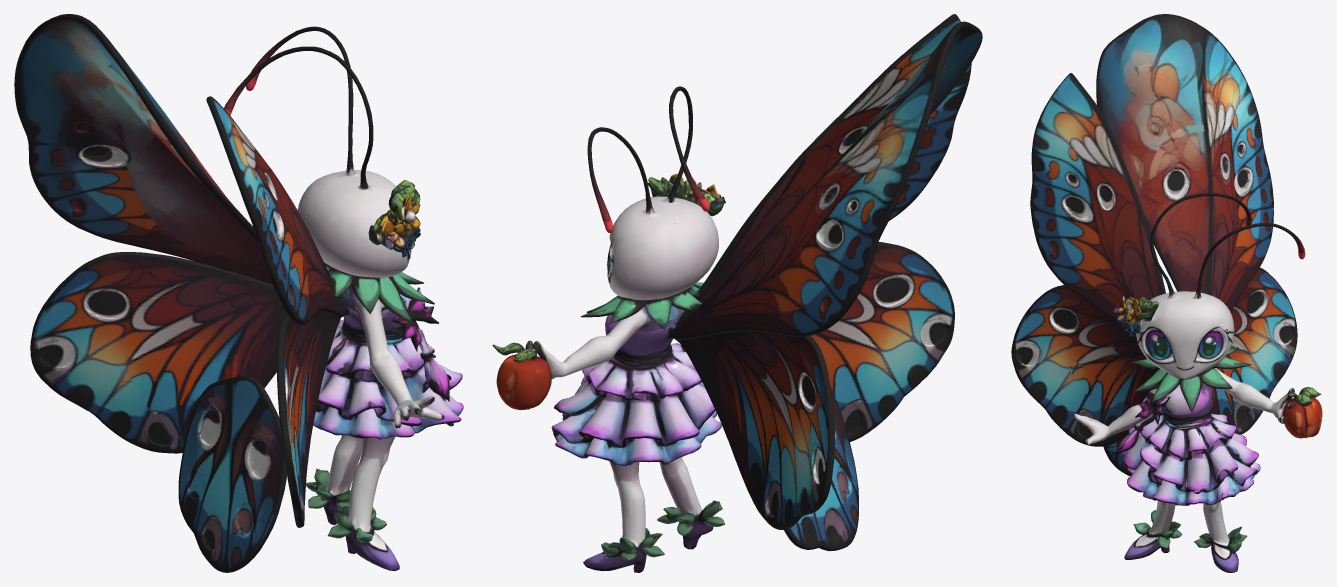
File: pixella.glb
3 renders of one model, left to right at view 1: azimuth 30°, elevation 25°; view 2: azimuth 150°, elevation 25°; view 3: azimuth 270°, elevation 25°, orthographic. The views are drawn at different scales.
Parts seen in each view (by area): view 1: tripo_node_e547bfa9-b305-4b18-aee7-3eeea9a306f9; view 2: tripo_node_e547bfa9-b305-4b18-aee7-3eeea9a306f9; view 3: tripo_node_e547bfa9-b305-4b18-aee7-3eeea9a306f9.
Part boxes in pixels (box(x1,y1,x2,y2)): tripo_node_e547bfa9-b305-4b18-aee7-3eeea9a306f9: box(14, 14, 463, 572); tripo_node_e547bfa9-b305-4b18-aee7-3eeea9a306f9: box(492, 14, 982, 572); tripo_node_e547bfa9-b305-4b18-aee7-3eeea9a306f9: box(1011, 14, 1322, 572).
Bounding box in the file's own units: 0.6952 × 1 × 0.6378.
Materials: 1 (1 with a texture image).
